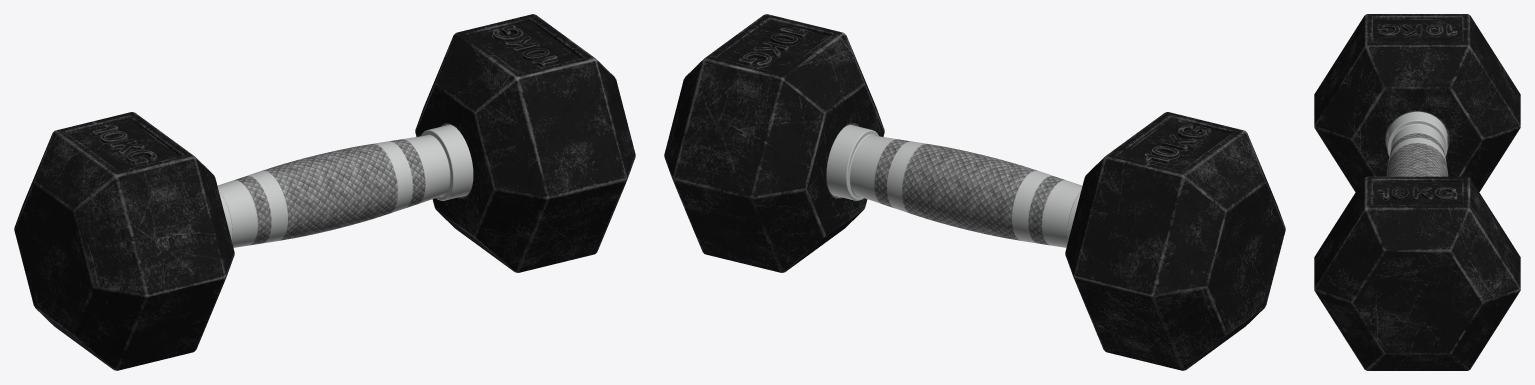
Rendered from dumbbell.glb.
The picture shows the model from 3 angles, left to right: view 1: azimuth 30°, elevation 25°; view 2: azimuth 150°, elevation 25°; view 3: azimuth 270°, elevation 25°; orthographic projection. The views are drawn at different scales.
Visible parts, largest first — view 1: Hex dumbbell 10Kg_Hex dumbbell 10Kg_0; view 2: Hex dumbbell 10Kg_Hex dumbbell 10Kg_0; view 3: Hex dumbbell 10Kg_Hex dumbbell 10Kg_0.
Part boxes in pixels (box(x1,y1,x2,y2)): Hex dumbbell 10Kg_Hex dumbbell 10Kg_0: box(14, 14, 635, 370); Hex dumbbell 10Kg_Hex dumbbell 10Kg_0: box(664, 14, 1285, 370); Hex dumbbell 10Kg_Hex dumbbell 10Kg_0: box(1314, 14, 1520, 370).
Bounding box in the file's own units: 0.2772 × 0.0957 × 0.1097.
Materials: 1 (1 with a texture image).
